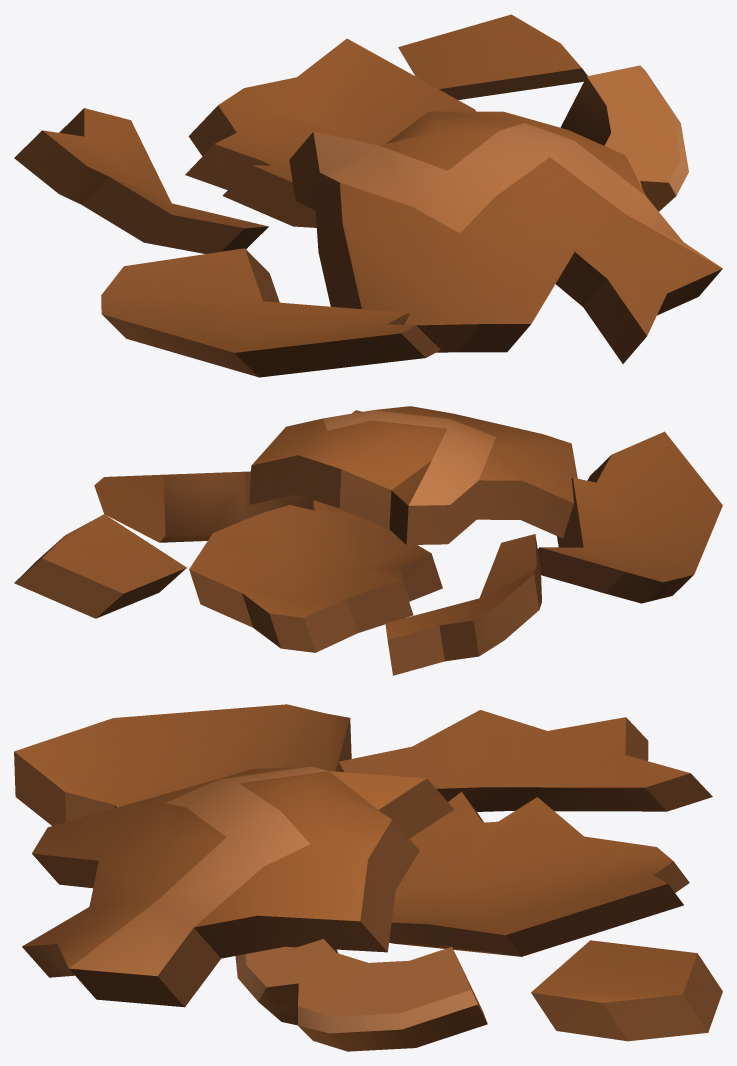
Rendered from Broken_Pot.FBX.
3 renders of one model, top to bottom at view 1: azimuth 30°, elevation 25°; view 2: azimuth 150°, elevation 25°; view 3: azimuth 270°, elevation 25°, orthographic. The views are drawn at different scales.
Parts seen in each view (by area): view 1: Broken_Pot; view 2: Broken_Pot; view 3: Broken_Pot.
Part boxes in pixels (left/top/right/bottom): Broken_Pot: left=14, top=14, right=722, bottom=377; Broken_Pot: left=14, top=406, right=722, bottom=675; Broken_Pot: left=14, top=704, right=722, bottom=1051.
Bounding box in the file's own units: 0.8742 × 0.2102 × 0.8146.
